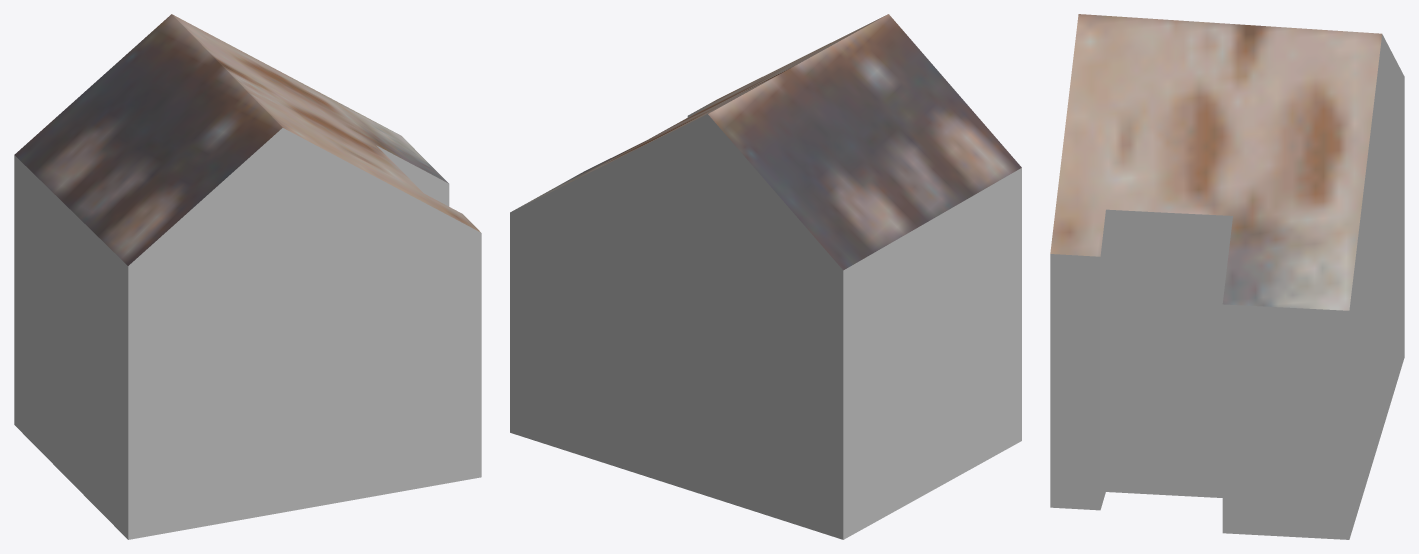
File: DEBW_0010007Tx5d.gltf
3 renders of one model, left to right at view 1: azimuth 30°, elevation 25°; view 2: azimuth 150°, elevation 25°; view 3: azimuth 270°, elevation 25°, orthographic. The views are drawn at different scales.
Visible parts, largest first — view 1: Z_UP; view 2: Z_UP; view 3: Z_UP.
Part boxes in pixels (x1=…): Z_UP: x1=14, y1=14, x2=481, y2=539; Z_UP: x1=510, y1=14, x2=1021, y2=539; Z_UP: x1=1050, y1=14, x2=1404, y2=539.
Bounding box in the file's own units: 12.2 × 11.41 × 9.17.
2 materials, 1 textured.
